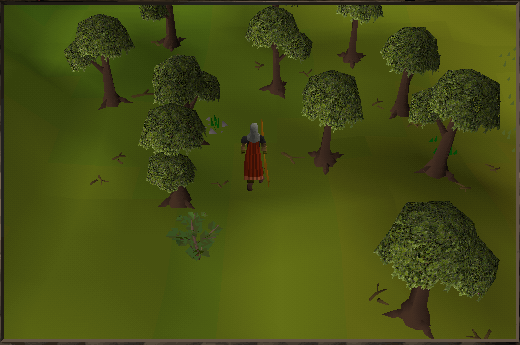Tree: (376, 192, 499, 335), (407, 75, 505, 177), (66, 11, 132, 115), (299, 67, 355, 179), (242, 8, 307, 101), (147, 111, 203, 211), (377, 28, 431, 118), (151, 54, 223, 110), (335, 0, 379, 63), (140, 0, 186, 48)
